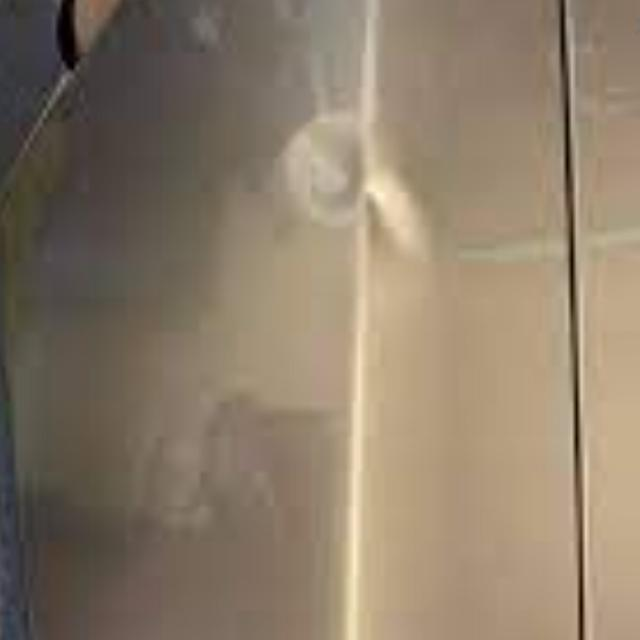dents: (252, 97, 420, 236)
